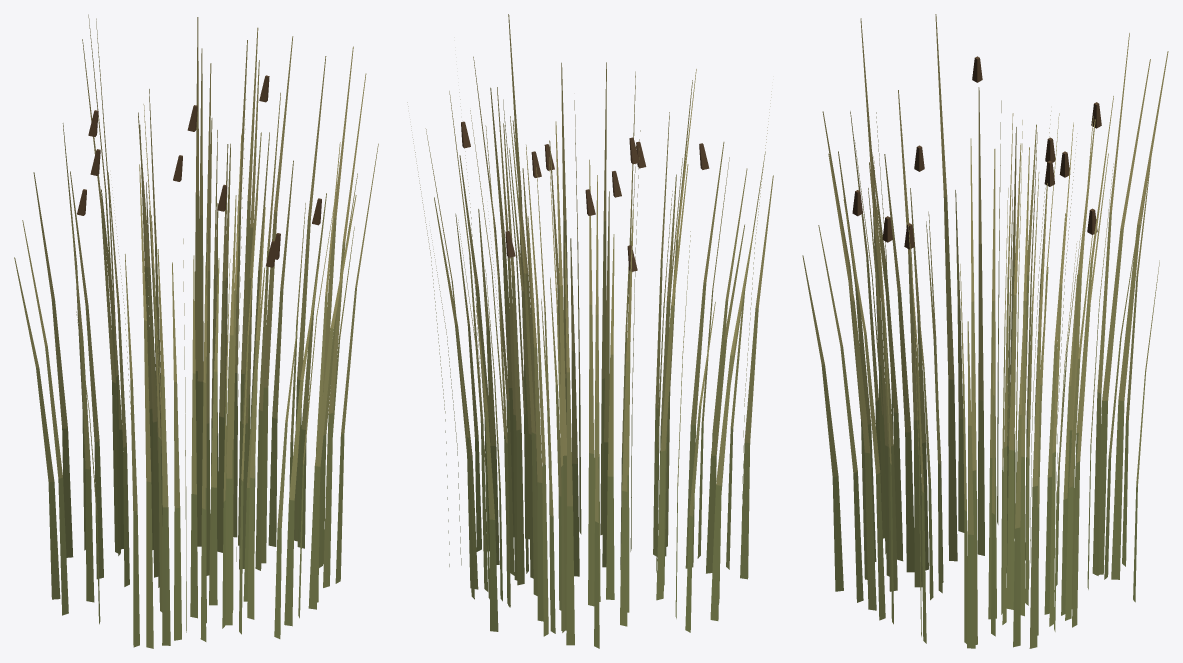
Rendered from juncos.glb.
The picture shows the model from 3 angles, left to right: view 1: azimuth 30°, elevation 25°; view 2: azimuth 150°, elevation 25°; view 3: azimuth 270°, elevation 25°; orthographic projection. The views are drawn at different scales.
Visible parts, largest first — view 1: JuncosA, JuncosFlores; view 2: JuncosA, JuncosFlores; view 3: JuncosA, JuncosFlores.
Boxes of the visible parts, x1,y1,x2,y2 form: JuncosA: (14, 14, 378, 648); JuncosFlores: (77, 75, 321, 267); JuncosA: (407, 14, 773, 648); JuncosFlores: (461, 121, 709, 271); JuncosA: (802, 14, 1168, 648); JuncosFlores: (852, 56, 1101, 249).
Size of the model in its own units: 0.8756 by 1.35 by 0.8308.
